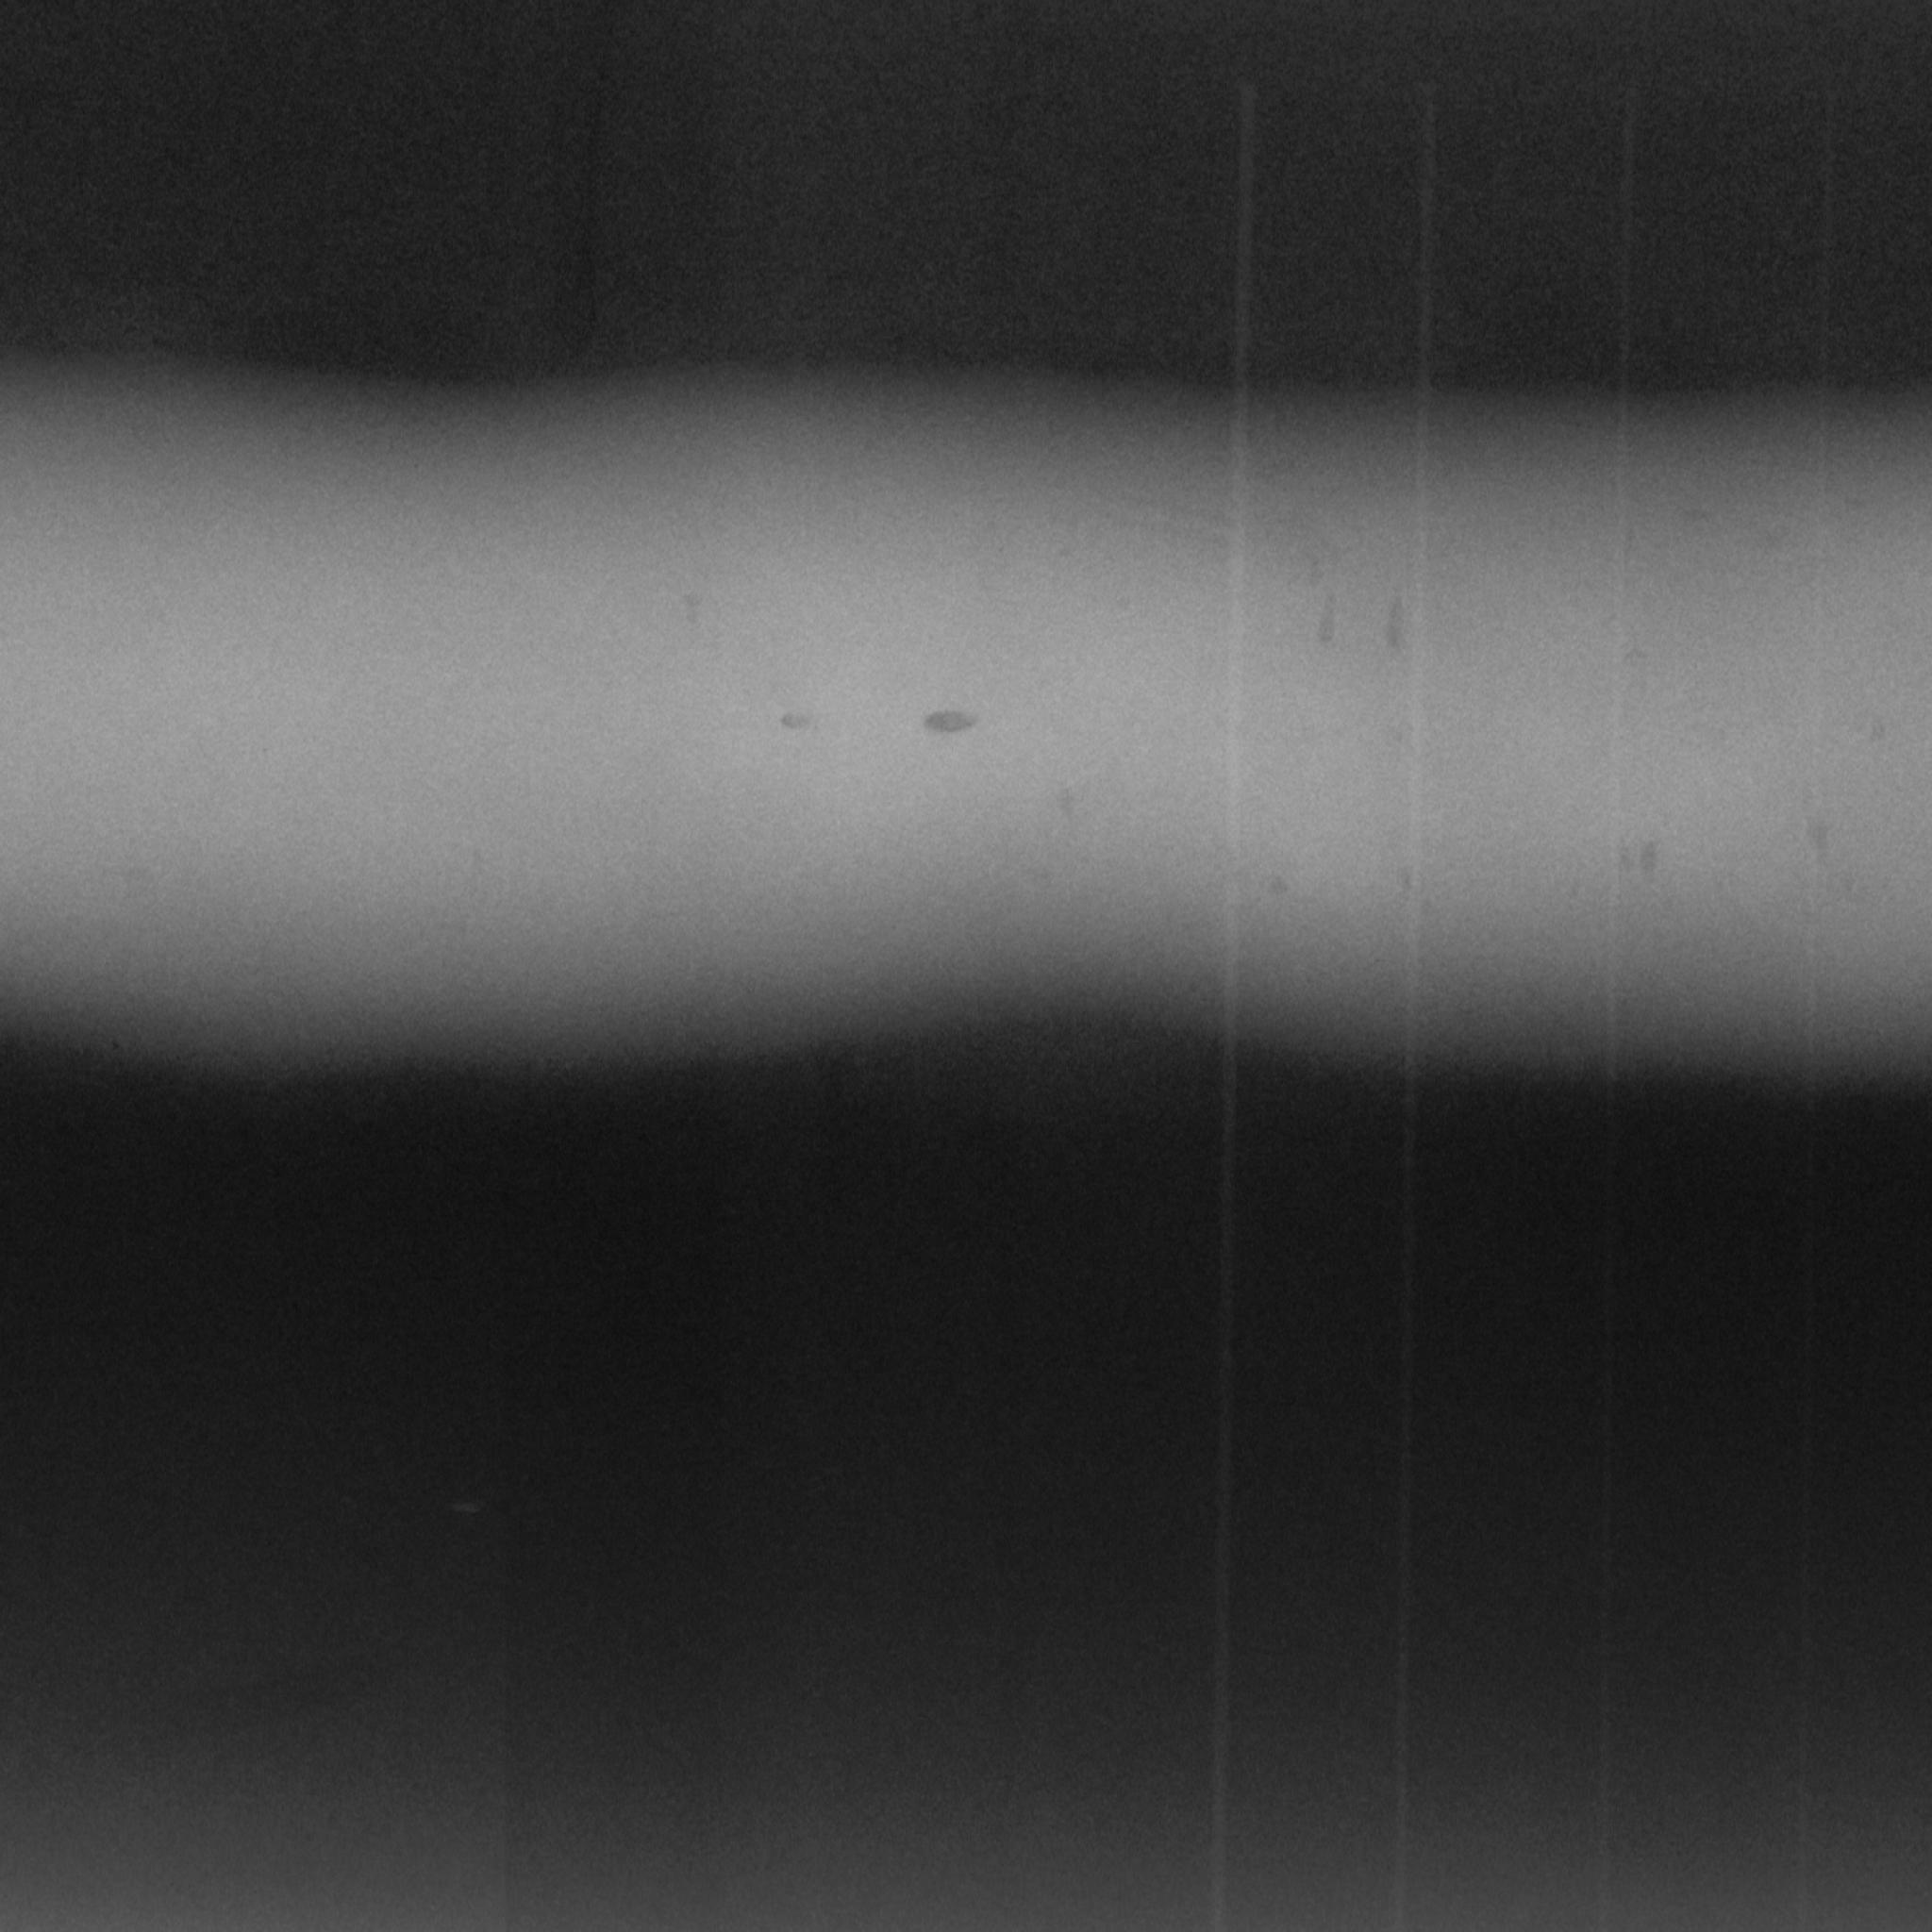Solda Ruim: (0, 272, 1932, 1166)
